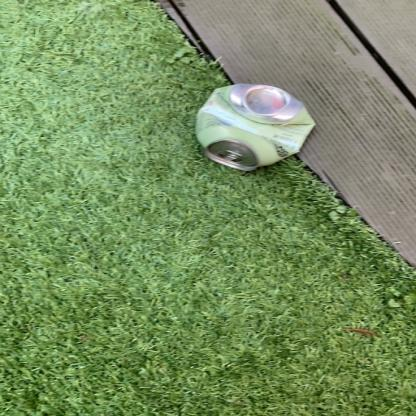trash: (191, 83, 318, 175)
